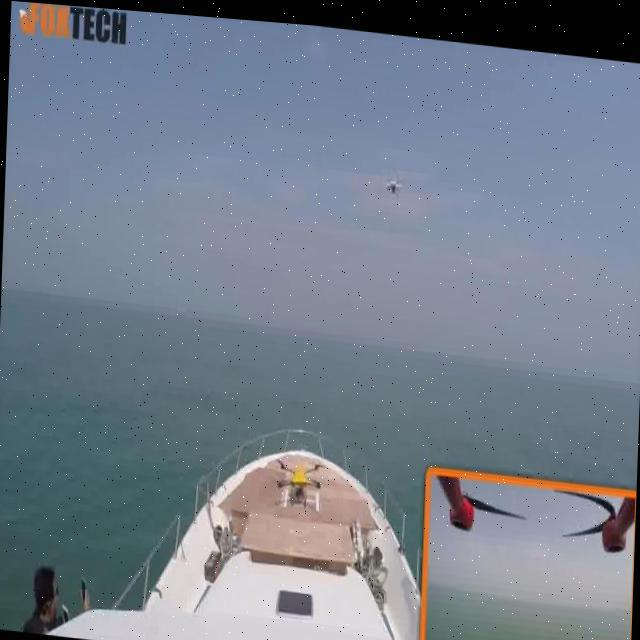drone: (266, 435, 328, 515), (371, 146, 406, 211)
